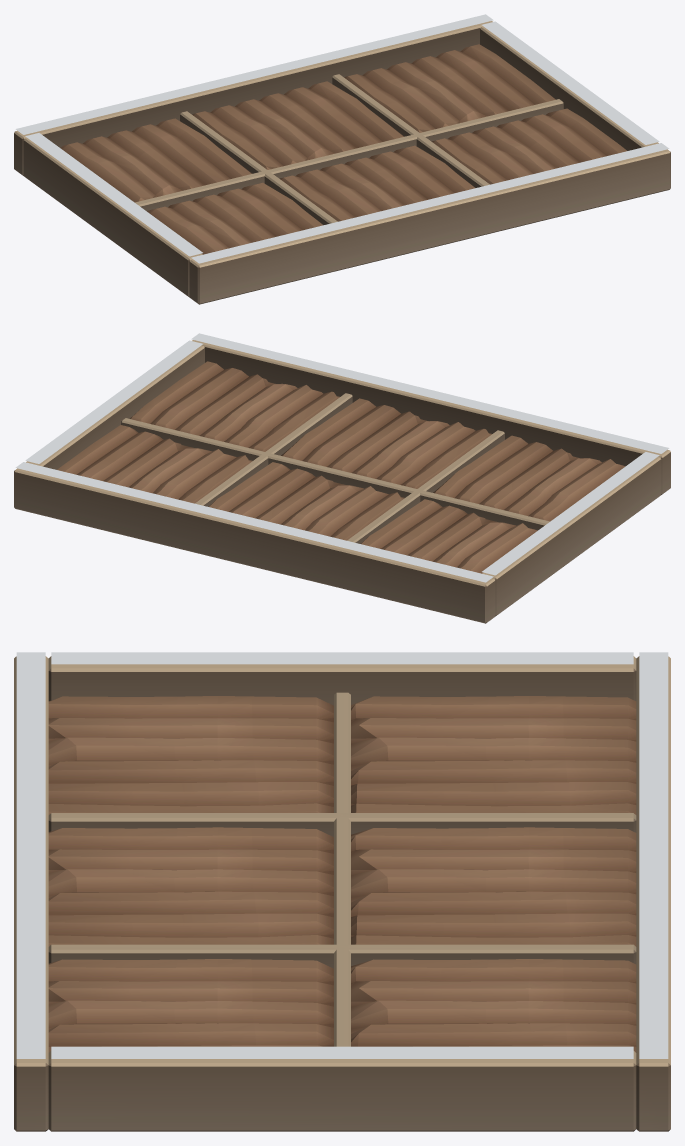
The model's file is farm_bed.glb.
3 views of the same model, one above another, from view 1: azimuth 30°, elevation 25°; view 2: azimuth 150°, elevation 25°; view 3: azimuth 270°, elevation 25° (orthographic). The views are drawn at different scales.
Parts seen in each view (by area): view 1: bed_frame.001, soil_1, soil_0, soil_2, soil_4, soil_3, soil_5; view 2: bed_frame.001, soil_4, soil_3, soil_5, soil_1, soil_0, soil_2; view 3: bed_frame.001, soil_1, soil_4, soil_2, soil_5, soil_0, soil_3.
Boxes of the visible parts, bbox=[...] form: bed_frame.001: bbox=[14, 14, 670, 304]; soil_1: bbox=[192, 81, 403, 169]; soil_0: bbox=[344, 44, 555, 132]; soil_2: bbox=[60, 118, 251, 202]; soil_4: bbox=[280, 145, 475, 221]; soil_3: bbox=[431, 108, 626, 184]; soil_5: bbox=[146, 182, 323, 254]; bed_frame.001: bbox=[14, 333, 670, 623]; soil_4: bbox=[281, 398, 491, 488]; soil_3: bbox=[130, 361, 339, 451]; soil_5: bbox=[433, 435, 625, 521]; soil_1: bbox=[209, 462, 404, 540]; soil_0: bbox=[57, 425, 252, 503]; soil_2: bbox=[361, 499, 537, 573]; bed_frame.001: bbox=[14, 652, 670, 1131]; soil_1: bbox=[351, 827, 636, 946]; soil_4: bbox=[48, 827, 333, 946]; soil_2: bbox=[351, 696, 636, 814]; soil_5: bbox=[48, 696, 333, 814]; soil_0: bbox=[351, 959, 636, 1052]; soil_3: bbox=[48, 959, 333, 1052].
Size of the model in its own units: 2.8 by 0.232 by 1.9.
2 materials, 2 textured.
